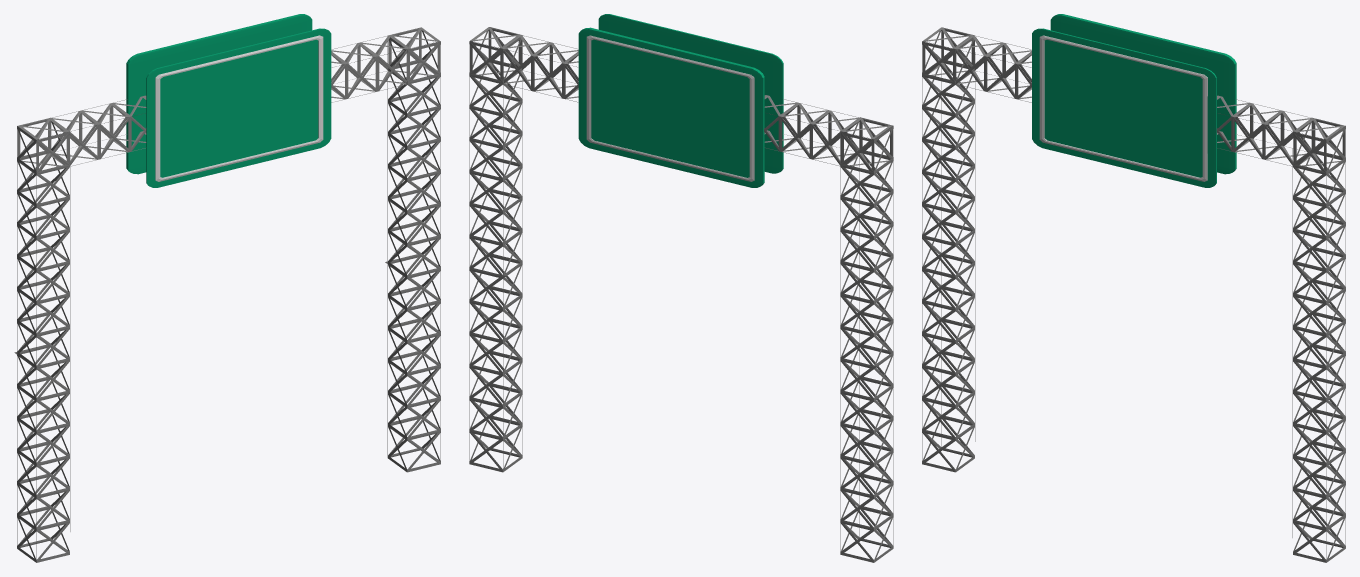
File: signal5.gltf
The picture shows the model from 3 angles, left to right: view 1: azimuth 30°, elevation 25°; view 2: azimuth 150°, elevation 25°; view 3: azimuth 330°, elevation 25°; orthographic projection.
Parts seen in each view (by area): view 1: Cube.004, Cube.001, Cube.002, Cube, Cube.003, Torus.001; view 2: Cube.003, Cube.001, Cube.002, Cube, Cube.004, Torus.000; view 3: Cube.004, Cube.002, Cube.001, Cube, Cube.003, Torus.001.
Part boxes in pixels (x1,y1,x2,y2): Cube.004: [146, 28, 331, 187]; Cube.001: [14, 117, 70, 562]; Cube.002: [385, 27, 440, 472]; Cube: [17, 27, 440, 170]; Cube.003: [126, 14, 312, 174]; Torus.001: [155, 35, 323, 181]; Cube.003: [578, 27, 764, 187]; Cube.001: [840, 117, 893, 562]; Cube.002: [469, 27, 522, 472]; Cube: [470, 27, 892, 170]; Cube.004: [598, 14, 783, 173]; Torus.000: [586, 35, 754, 181]; Cube.004: [1032, 28, 1216, 187]; Cube.002: [1292, 117, 1345, 562]; Cube.001: [922, 27, 975, 472]; Cube: [922, 27, 1345, 170]; Cube.003: [1050, 14, 1236, 174]; Torus.001: [1039, 35, 1207, 181].
Bounding box in the file's own units: 24.35 × 26.55 × 2.25.
